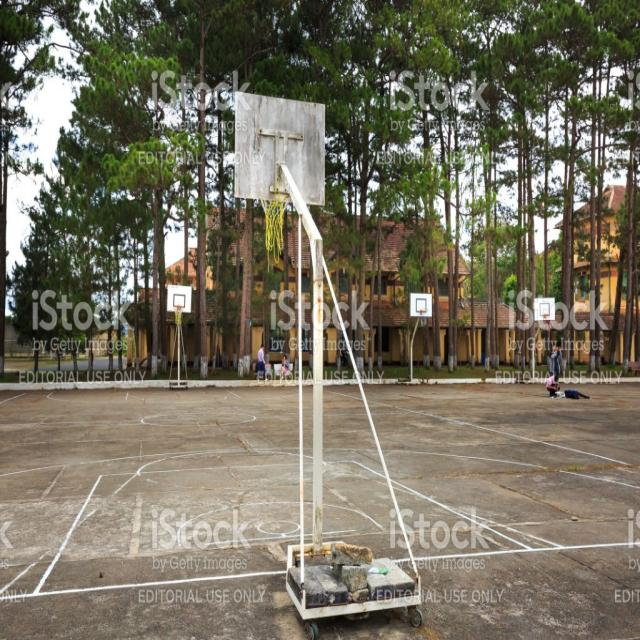body: (548, 343, 563, 378), (256, 342, 269, 382), (545, 372, 561, 398), (279, 353, 289, 382)
